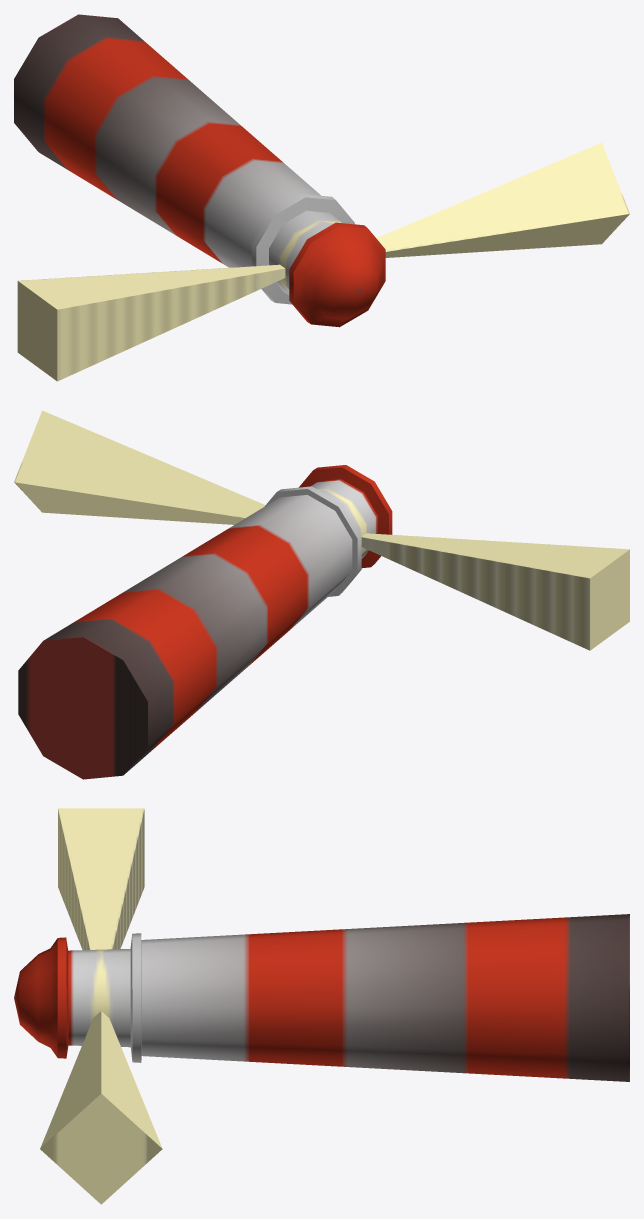
The model's file is MOD_decoLighthouse.fbx.
The picture shows the model from 3 angles, top to bottom: view 1: azimuth 30°, elevation 25°; view 2: azimuth 150°, elevation 25°; view 3: azimuth 270°, elevation 25°; orthographic projection. The views are drawn at different scales.
Visible parts, largest first — view 1: MOD_DecoLighthouse; view 2: MOD_DecoLighthouse; view 3: MOD_DecoLighthouse.
Part boxes in pixels (box(x1,y1,x2,y2)): MOD_DecoLighthouse: box(14, 14, 629, 381); MOD_DecoLighthouse: box(14, 410, 629, 779); MOD_DecoLighthouse: box(14, 808, 629, 1204).
Size of the model in its own units: 1.37 by 0.3296 by 1.19.
1 material, 1 textured.
